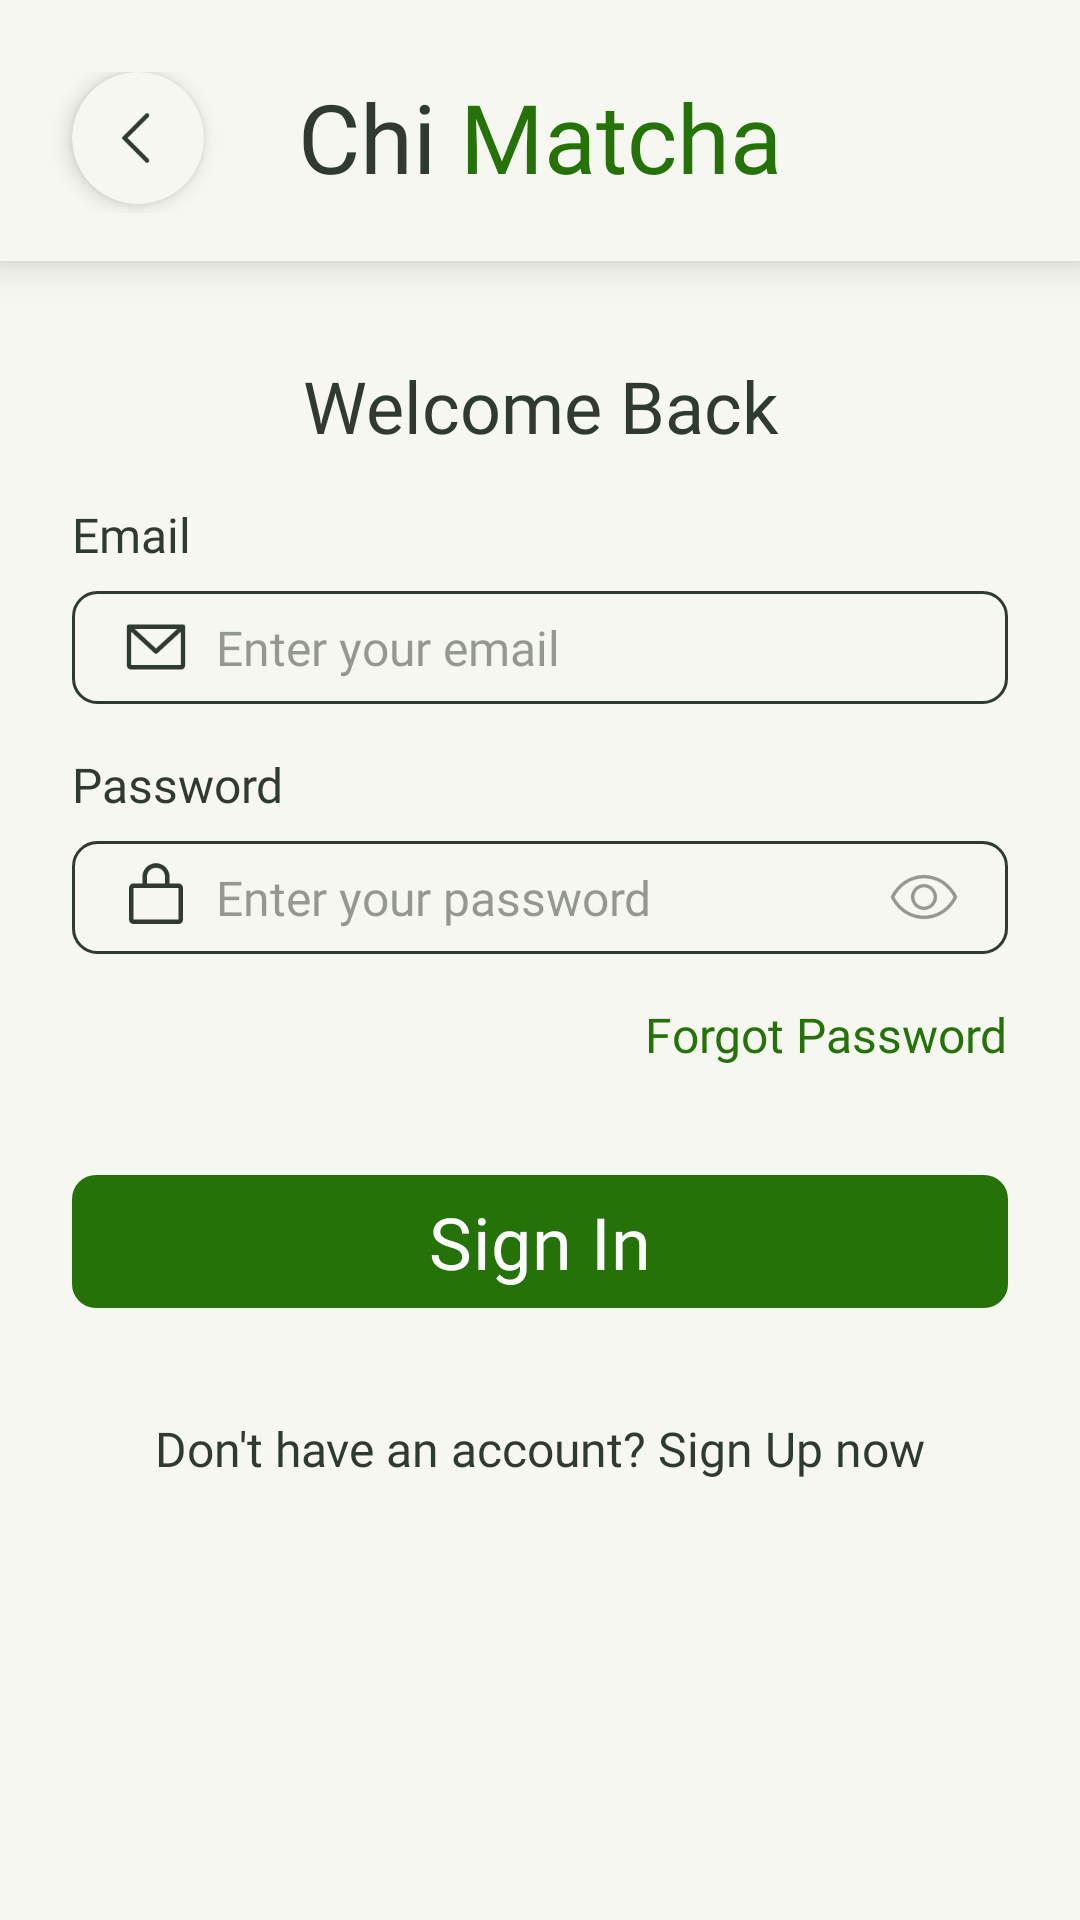

Point at icon controls on the screen. Image size 1080 × 1920, points as (x=x, y=y).
arrow back: (x=136, y=138)
